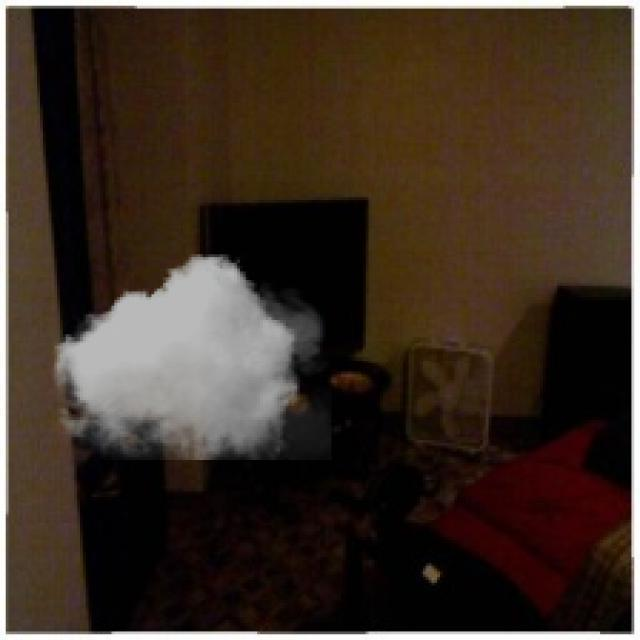Smoke: (48, 255, 332, 460)
